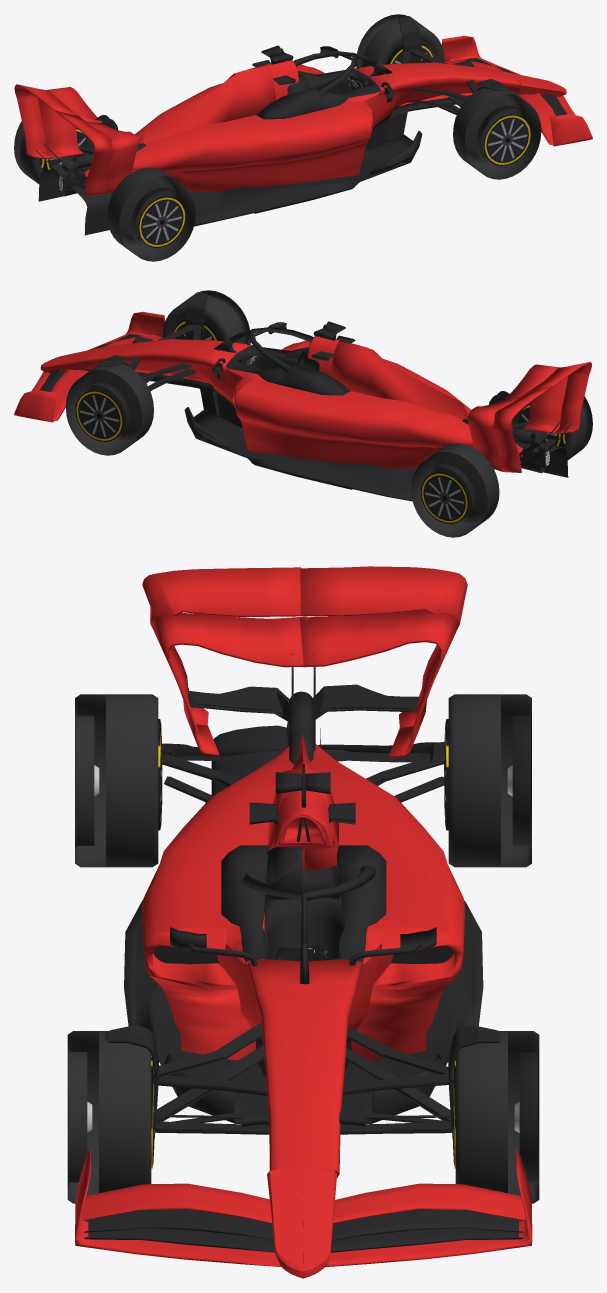
3 views of the same model, one above another, from view 1: azimuth 30°, elevation 25°; view 2: azimuth 150°, elevation 25°; view 3: azimuth 270°, elevation 25° (orthographic). The views are drawn at different scales.
Parts seen in each view (by area): view 1: body, spin_RR, spin_FR, spin_FL, spin_RL, steer_FL; view 2: body, spin_RL, spin_FL, spin_FR, spin_RR, steer_FR; view 3: body, spin_RL, spin_RR, spin_FR, spin_FL, steer_FR, steer_FL.
Part boxes in pixels (bbox=[...]): body: bbox=[14, 35, 592, 235]; spin_RR: bbox=[107, 167, 195, 261]; spin_FR: bbox=[453, 88, 541, 179]; spin_FL: bbox=[356, 14, 444, 67]; spin_RL: bbox=[14, 121, 94, 183]; steer_FL: bbox=[398, 16, 421, 62]; body: bbox=[14, 311, 591, 501]; spin_RL: bbox=[411, 443, 499, 537]; spin_FL: bbox=[65, 364, 153, 455]; spin_FR: bbox=[162, 290, 250, 344]; spin_RR: bbox=[511, 396, 592, 459]; steer_FR: bbox=[185, 292, 208, 339]; body: bbox=[75, 566, 532, 1278]; spin_RL: bbox=[444, 694, 531, 867]; spin_RR: bbox=[75, 694, 162, 867]; spin_FR: bbox=[67, 1031, 154, 1203]; spin_FL: bbox=[453, 1031, 539, 1203]; steer_FR: bbox=[105, 1025, 158, 1139]; steer_FL: bbox=[448, 1025, 502, 1139].
Size of the model in its own units: 5.35 by 1.29 by 2.14.
Materials: 6 (1 with a texture image).
